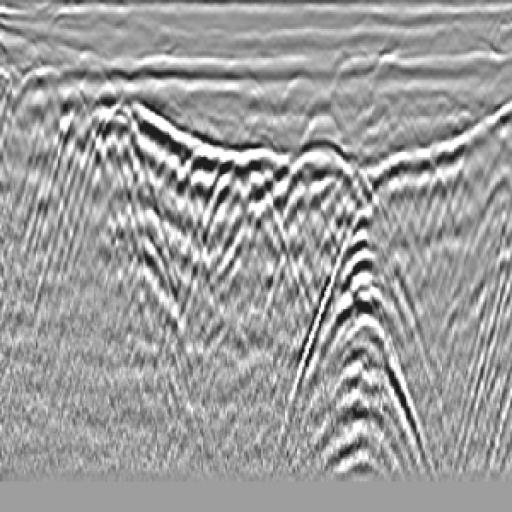metalic: (180, 129, 321, 335)
